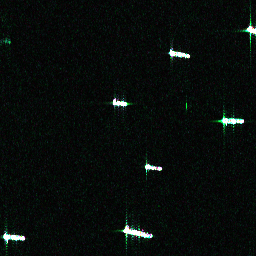ship: (122, 224, 155, 240), (2, 231, 27, 243), (167, 48, 191, 60), (220, 115, 246, 126), (143, 161, 163, 173), (110, 97, 129, 109), (246, 23, 255, 35)
